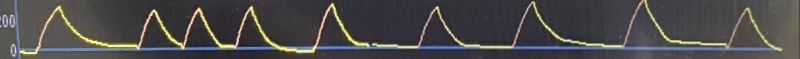normal_volume: (23, 0, 799, 57)
